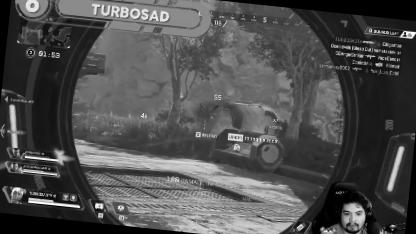Target: (195, 102, 217, 130)
